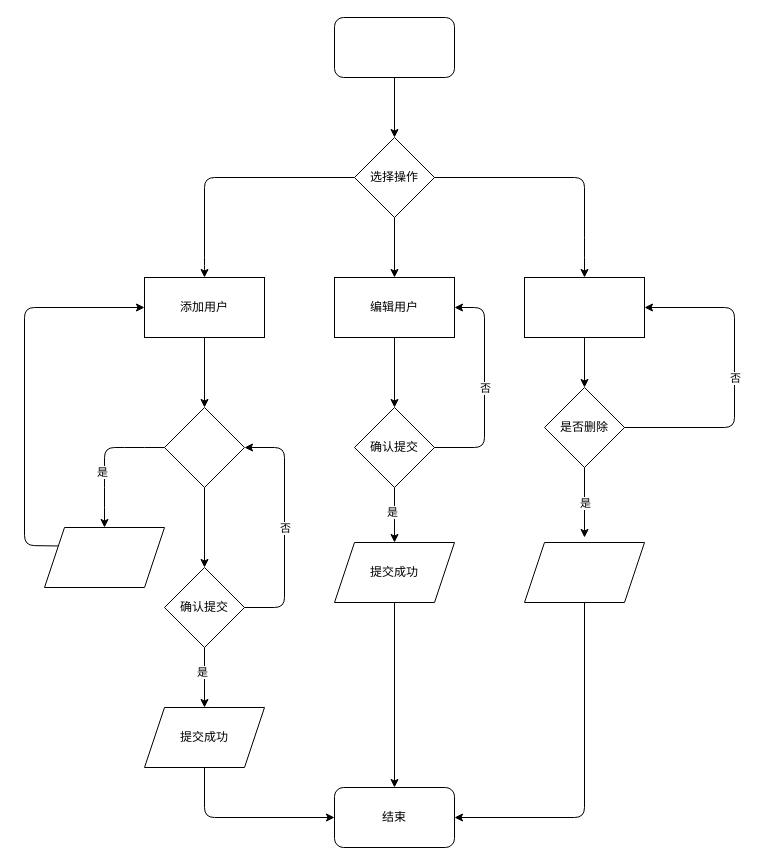
This 760x865 diagram has some shape labels left out. The centre of each missing label's shape, as x and y in pixels:
删除成功: pixel 584 572
删除用户: pixel 584 307
开始: pixel 394 47
账户已注册 请重新输入: pixel 104 557
账户是否重复: pixel 204 447
